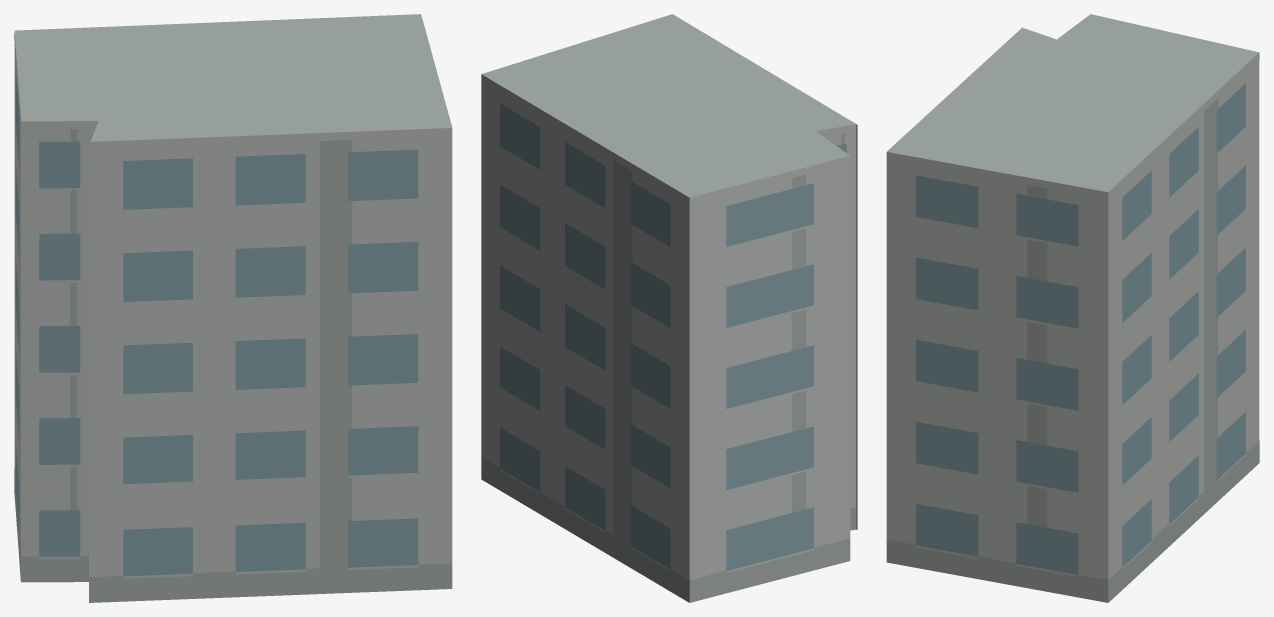
The model's file is survey-upis-32727874.glb.
The picture shows the model from 3 angles, left to right: view 1: azimuth 30°, elevation 25°; view 2: azimuth 150°, elevation 25°; view 3: azimuth 270°, elevation 25°; orthographic projection. The views are drawn at different scales.
Visible parts, largest first — view 1: survey-upis-32727874.tmp; view 2: survey-upis-32727874.tmp; view 3: survey-upis-32727874.tmp.
Boxes of the visible parts, x1,y1,x2,y2 form: survey-upis-32727874.tmp: [14, 14, 452, 602]; survey-upis-32727874.tmp: [481, 14, 857, 602]; survey-upis-32727874.tmp: [886, 14, 1259, 602].
Bounding box in the file's own units: 12.85 × 13.8 × 11.37.
